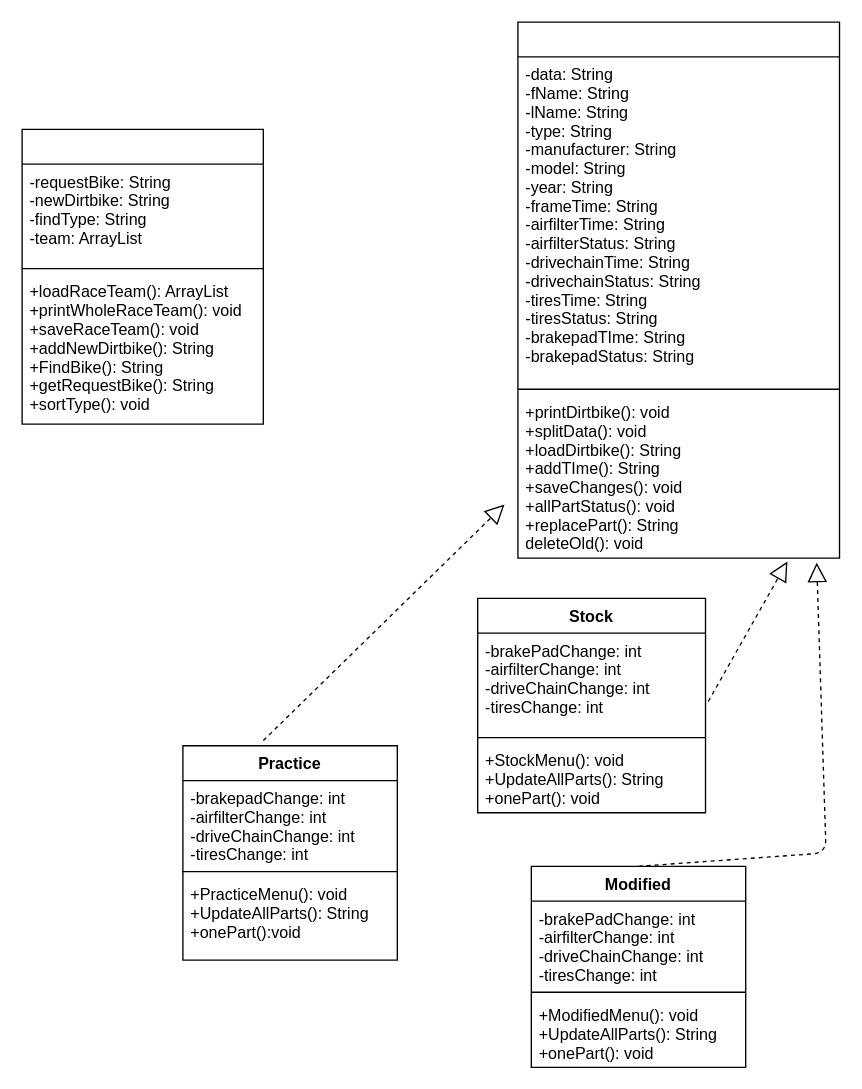
Some shapes in this 862 by 1089 pixel diagram are drawn without their labels. The shapes that lost their labels are listed below. From the top down, each one's box as (x1, y1, x2, y2) in pixels, then its label:
(21, 128, 263, 424): Main
(517, 21, 840, 558): Dirtbike (abstract)
